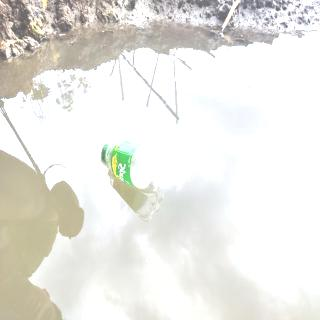bottle: (99, 135, 168, 196)
